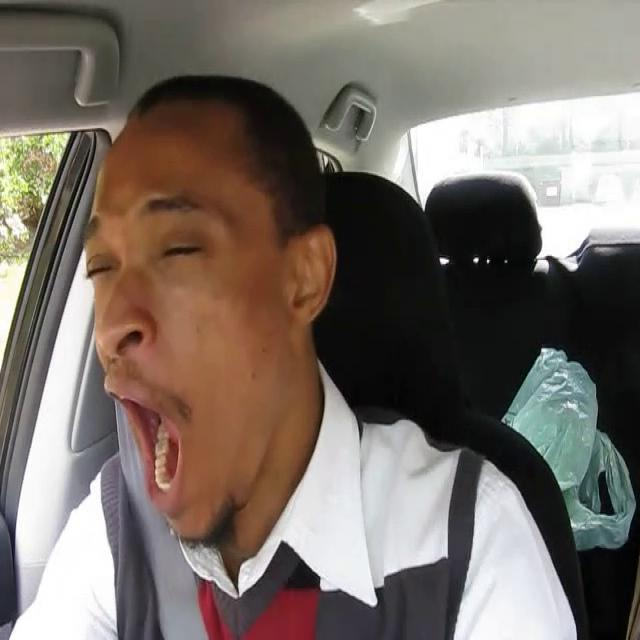close: (131, 187, 224, 274), (71, 213, 121, 286)
